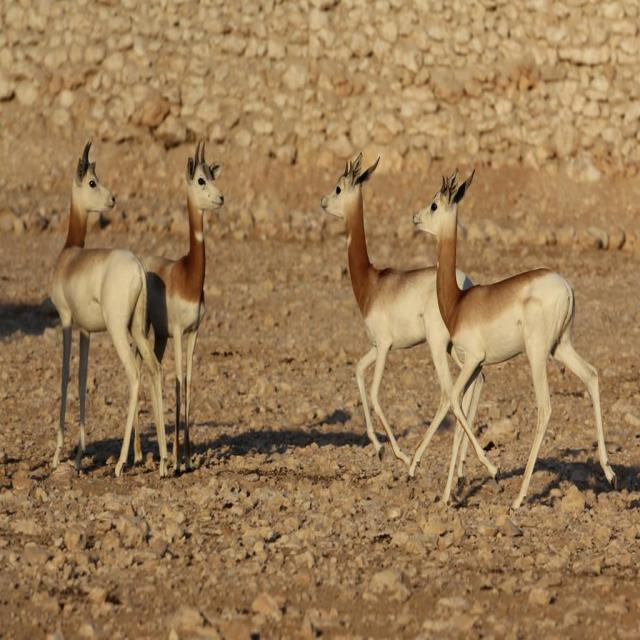Deer: (412, 166, 616, 503), (319, 147, 475, 467), (48, 138, 170, 482), (134, 139, 224, 464)
